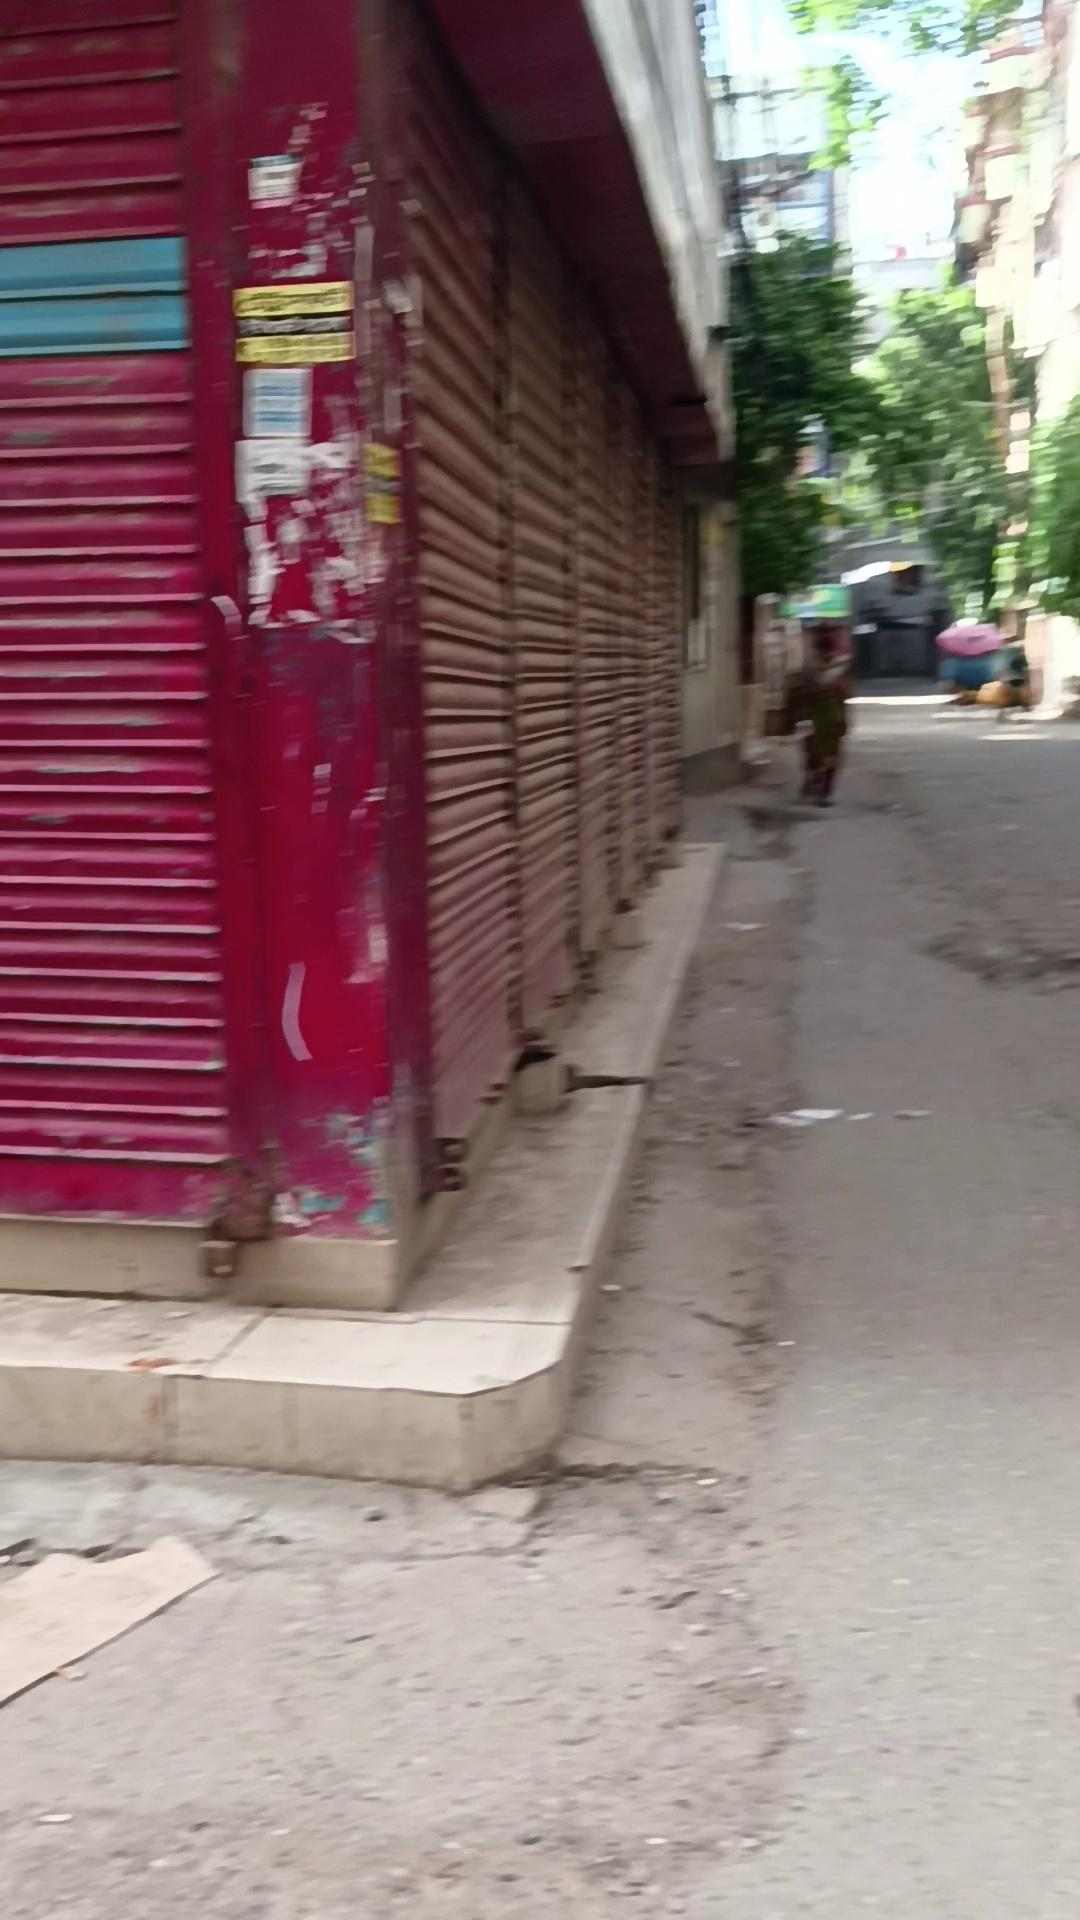Broken-road: (566, 683, 1077, 1913)
Crosswalk: (3, 833, 728, 1491)
Muddy road: (781, 622, 855, 807)
Tree: (12, 12, 661, 1189)
